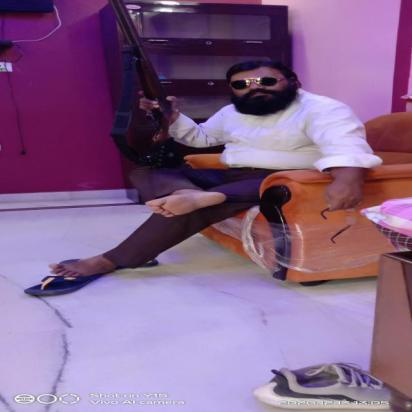Gun: (108, 0, 185, 171)
